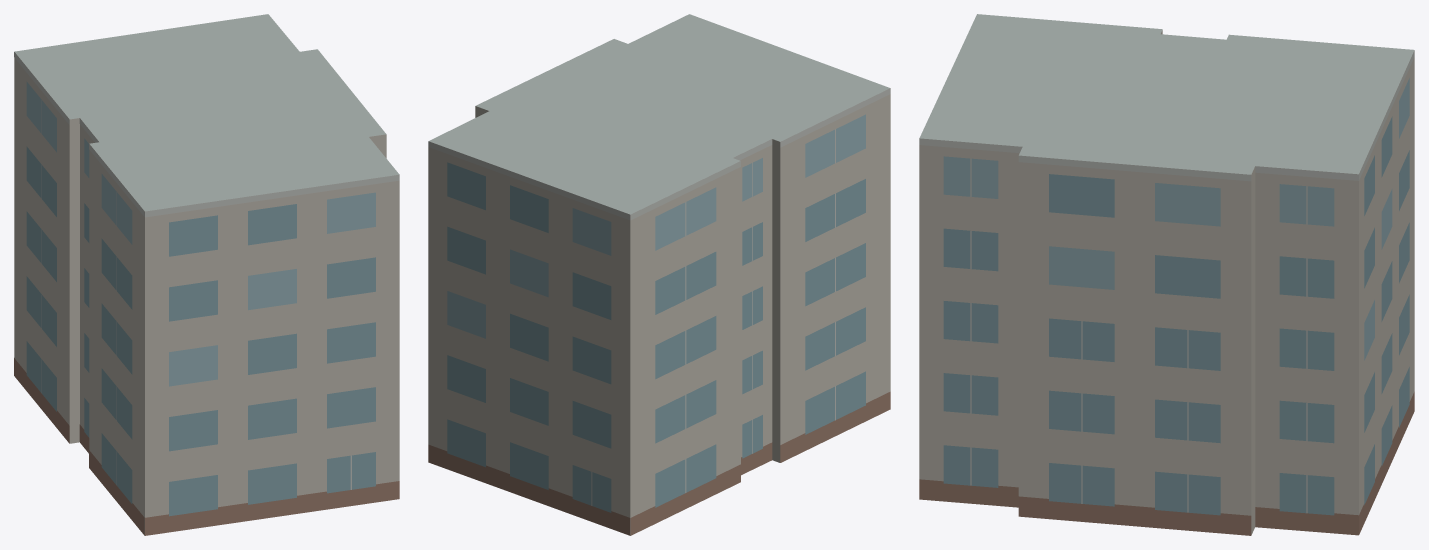
File: survey-upis-32663571.glb
3 renders of one model, left to right at view 1: azimuth 30°, elevation 25°; view 2: azimuth 150°, elevation 25°; view 3: azimuth 270°, elevation 25°, orthographic. The views are drawn at different scales.
Parts seen in each view (by area): view 1: survey-upis-32663571.tmp; view 2: survey-upis-32663571.tmp; view 3: survey-upis-32663571.tmp.
Part boxes in pixels (bbox=[...]): survey-upis-32663571.tmp: bbox=[14, 14, 399, 535]; survey-upis-32663571.tmp: bbox=[428, 14, 890, 535]; survey-upis-32663571.tmp: bbox=[919, 14, 1414, 535].
Bounding box in the file's own units: 12.71 × 13.3 × 16.55.
